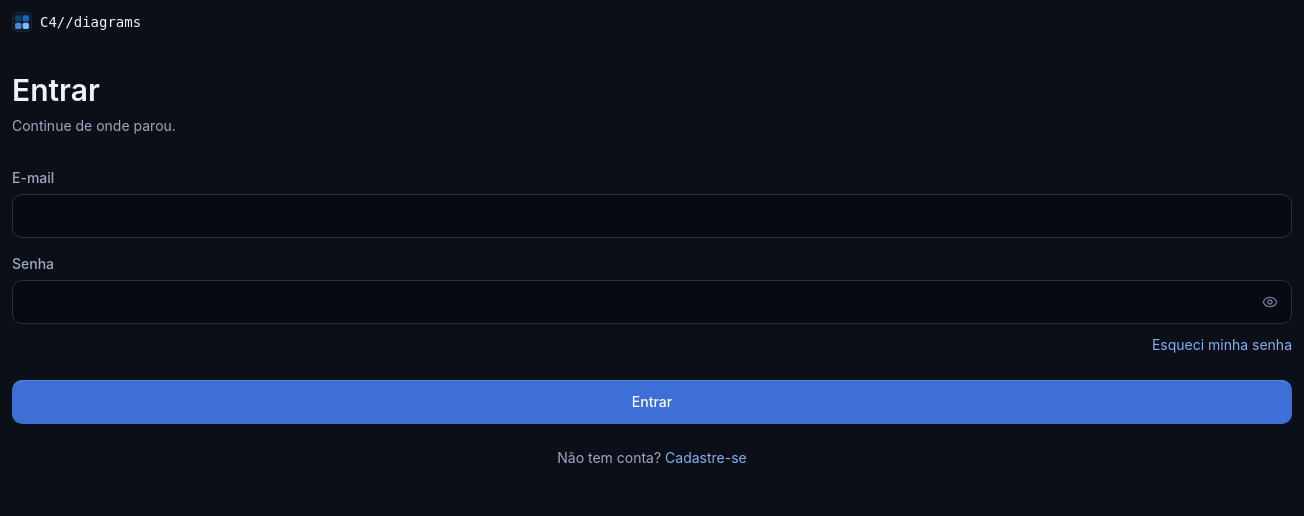
it: Login › deve exibir mensagem de conta bloqueada com o tempo restante (423)
The width and height of the screenshot is (1304, 516).
In the field labelled "E-mail": (652, 216) [12,194,1292,238], type "joao@example.com"
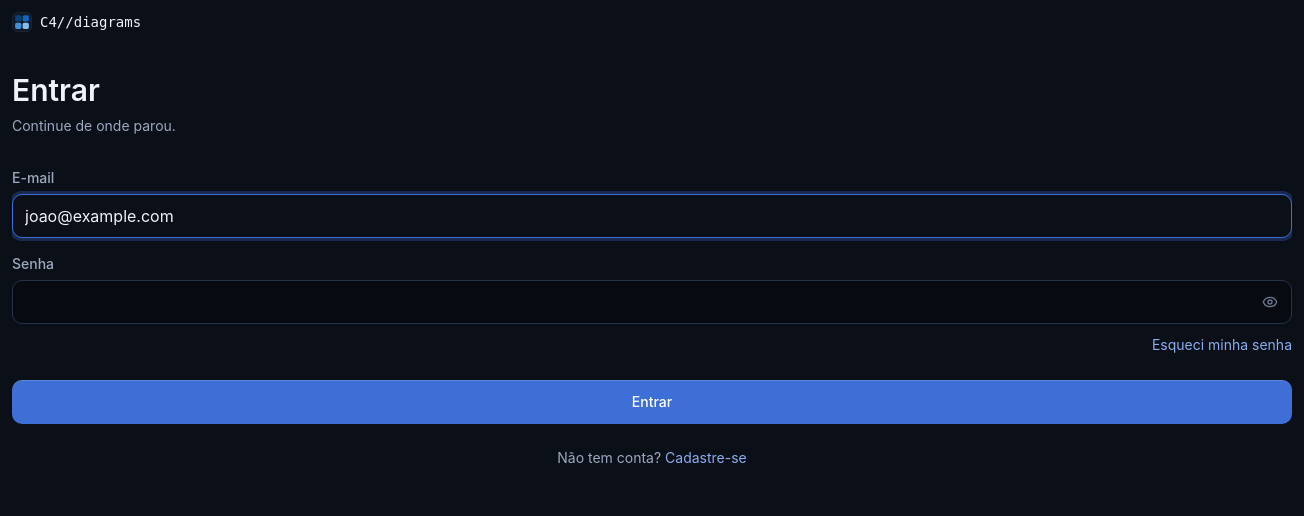
In the password field labelled "Senha": (652, 302) [12,280,1292,324], type "Senha@12345"
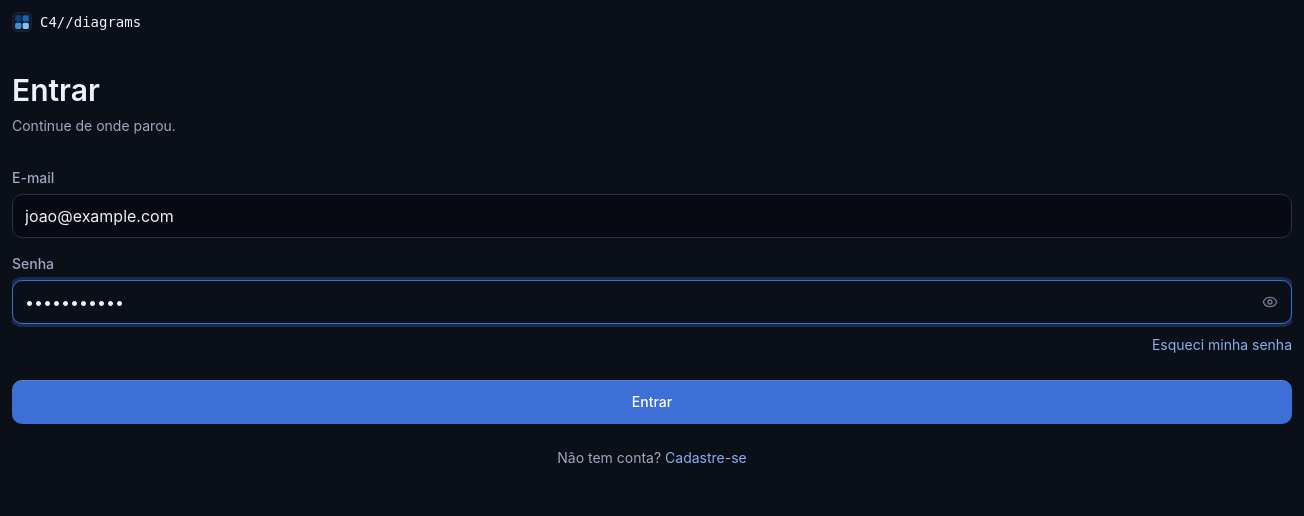
Click the button "Entrar": (652, 402) [12,380,1292,424]
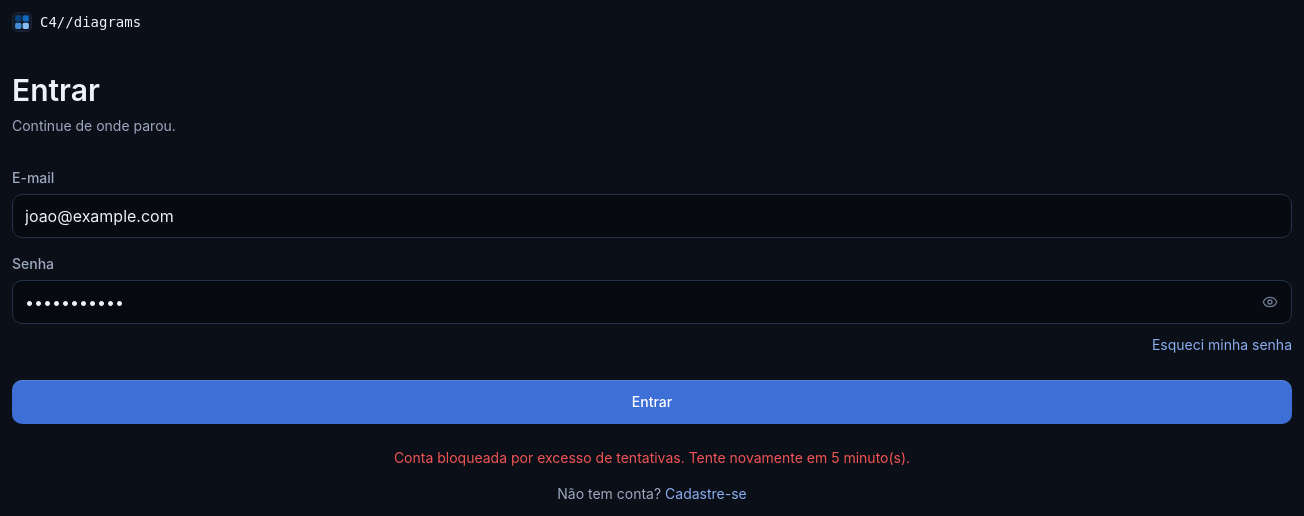
Check: the text "Conta bloqueada por excesso de tentativas. Tente novamente em 5 minuto(s)." is shown, box [394,449,910,466]
